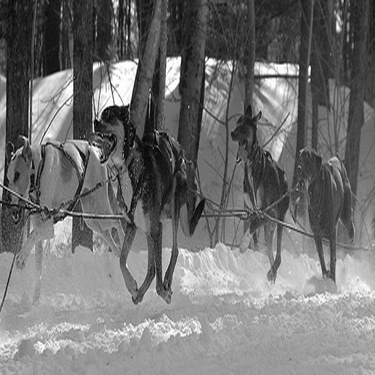dog: (91, 98, 209, 310), (4, 128, 136, 291), (225, 98, 291, 287), (289, 140, 361, 288)
